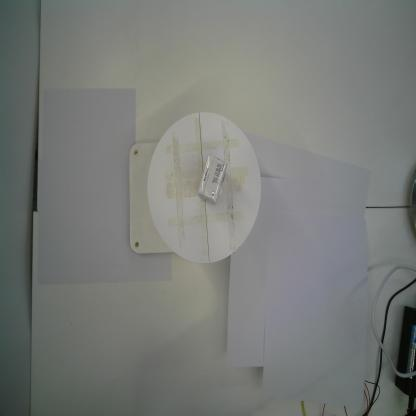Milk: (197, 154, 228, 203)
